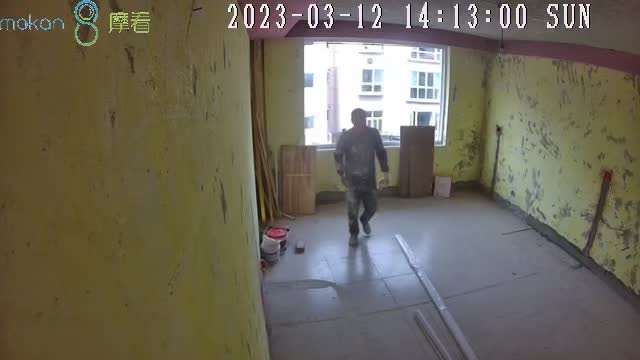people: (334, 107, 390, 245)
window: (304, 40, 444, 145)
